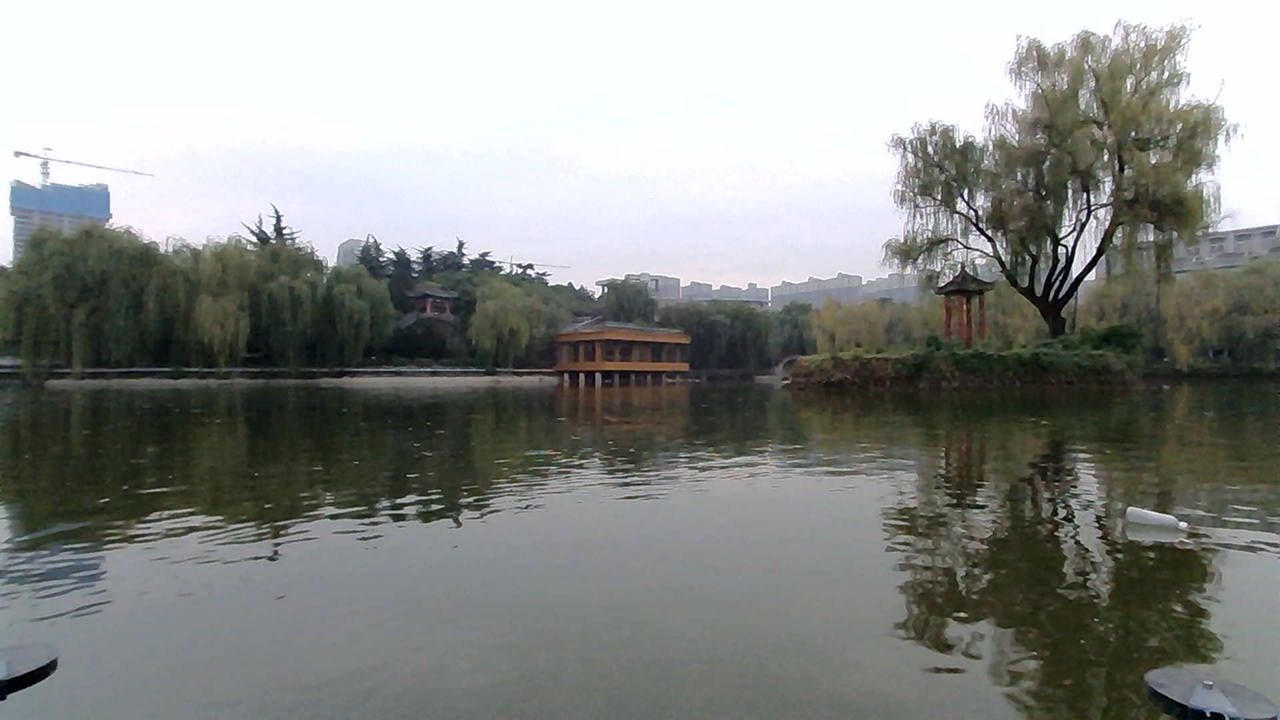bottle: (1123, 503, 1187, 536)
